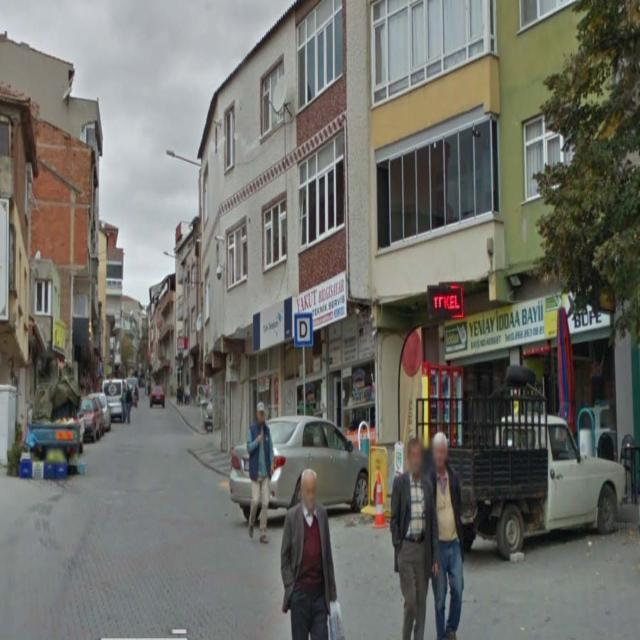durak: (294, 311, 312, 345)
